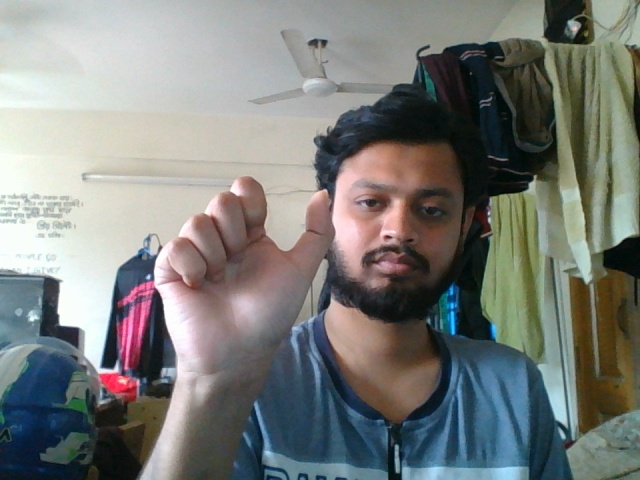dho: (136, 167, 341, 453)
